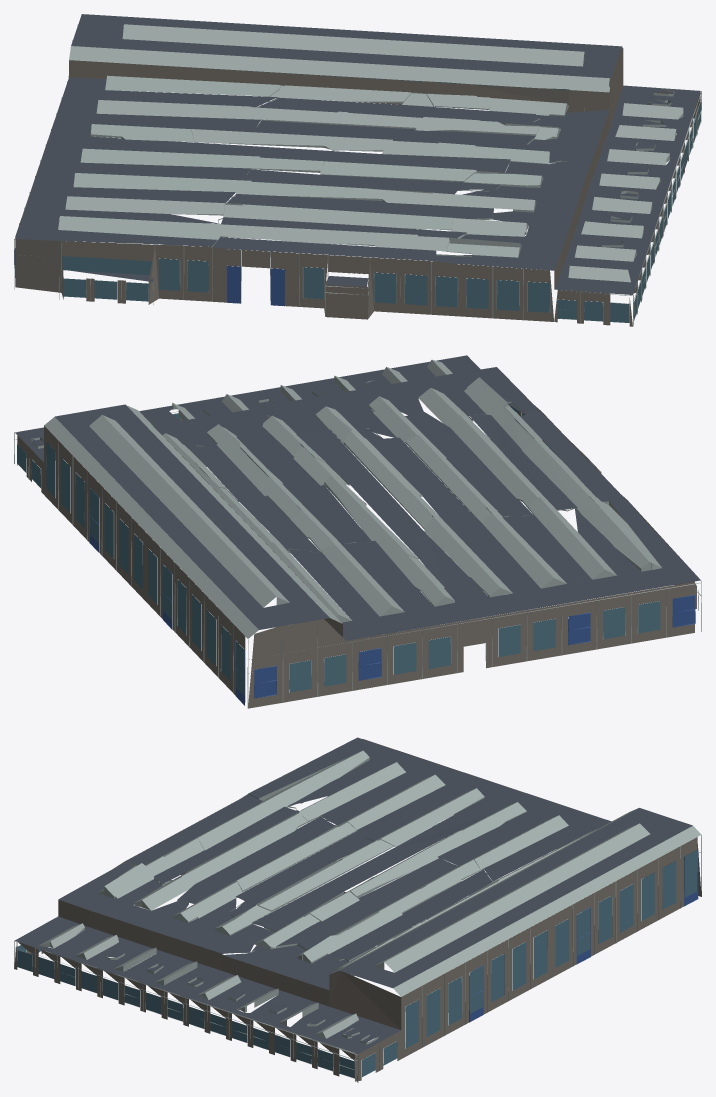
Rendered from ndsm-warehouse-complex.lod1.glb.
3 views of the same model, one above another, from view 1: azimuth 30°, elevation 25°; view 2: azimuth 150°, elevation 25°; view 3: azimuth 270°, elevation 25° (orthographic). The views are drawn at different scales.
Parts seen in each view (by area): view 1: ndsm-warehouse-complex; view 2: ndsm-warehouse-complex; view 3: ndsm-warehouse-complex.
Part boxes in pixels (box(x1,y1,x2,y2)): ndsm-warehouse-complex: box(14, 14, 701, 326); ndsm-warehouse-complex: box(14, 355, 701, 708); ndsm-warehouse-complex: box(14, 737, 701, 1082).
Bounding box in the file's own units: 205 × 24.28 × 198.
